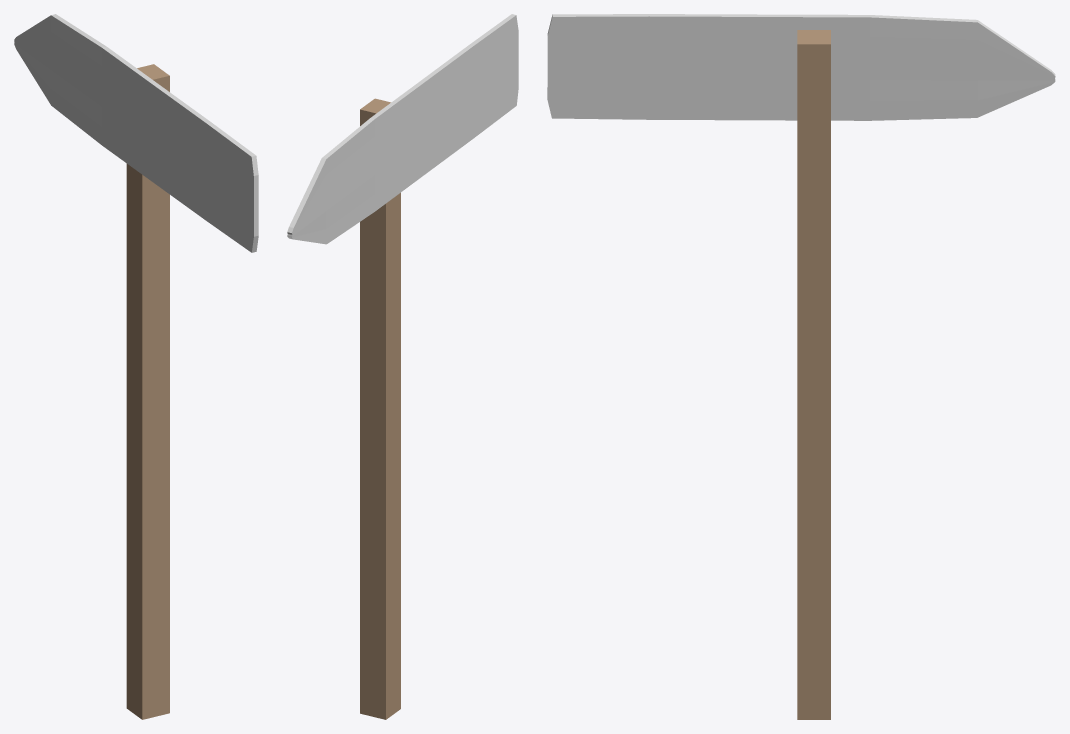
The model's file is sign.glb.
The picture shows the model from 3 angles, left to right: view 1: azimuth 30°, elevation 25°; view 2: azimuth 150°, elevation 25°; view 3: azimuth 270°, elevation 25°; orthographic projection. The views are drawn at different scales.
Visible parts, largest first — view 1: Cube, Plane; view 2: Cube, Plane; view 3: Plane, Cube.
Part boxes in pixels (x1,y1,x2,y2): Cube: (126,64,169,719); Plane: (14,14,258,252); Cube: (360,98,400,719); Plane: (287,14,518,244); Plane: (547,14,1055,120); Cube: (797,30,830,719).
Size of the model in its own units: 2.49 by 45.25 by 30.26.
